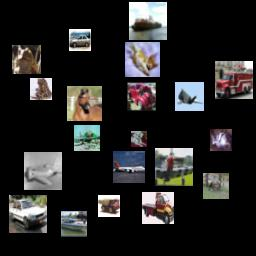airplane: (155, 148, 193, 186), (24, 152, 62, 190), (113, 151, 145, 183), (175, 82, 204, 111), (74, 125, 100, 151)
automobile: (9, 195, 47, 233), (127, 82, 156, 111), (69, 29, 91, 51)
cat: (125, 42, 160, 77), (210, 129, 232, 151)
deer: (203, 173, 229, 199)
dog: (131, 131, 147, 147)
frog: (12, 45, 41, 74), (30, 78, 52, 100)
ship: (129, 2, 167, 40), (61, 211, 87, 237)
truck: (215, 61, 253, 99), (142, 192, 174, 224), (98, 195, 120, 217)
